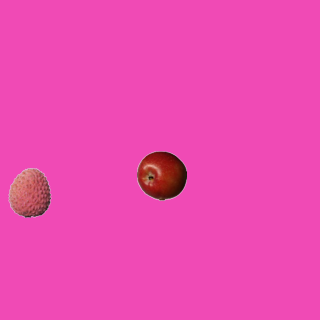Apple Braeburn: (136, 150, 186, 200)
Lychee: (4, 167, 54, 217)
